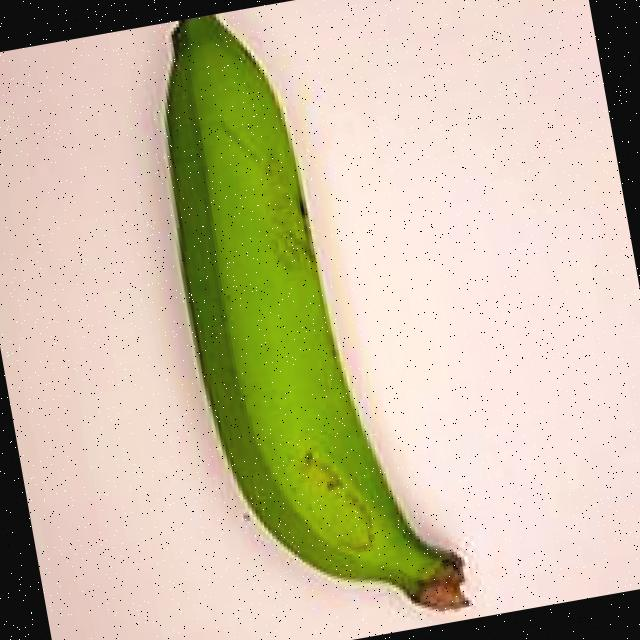Raw: (91, 0, 508, 640)
